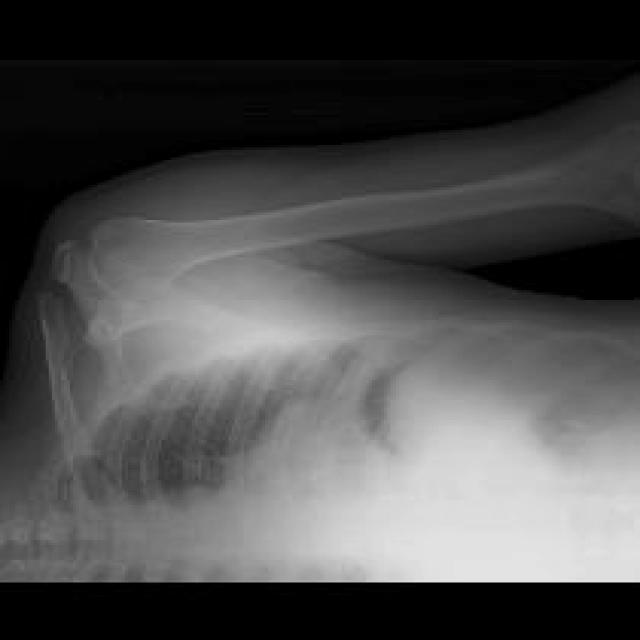normal: (39, 241, 635, 580), (91, 136, 637, 277)
